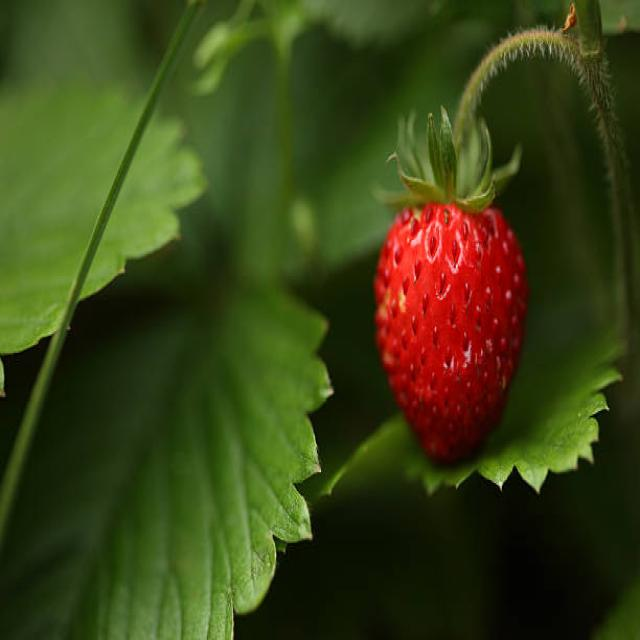Healthy Fruit: (375, 198, 529, 463)
